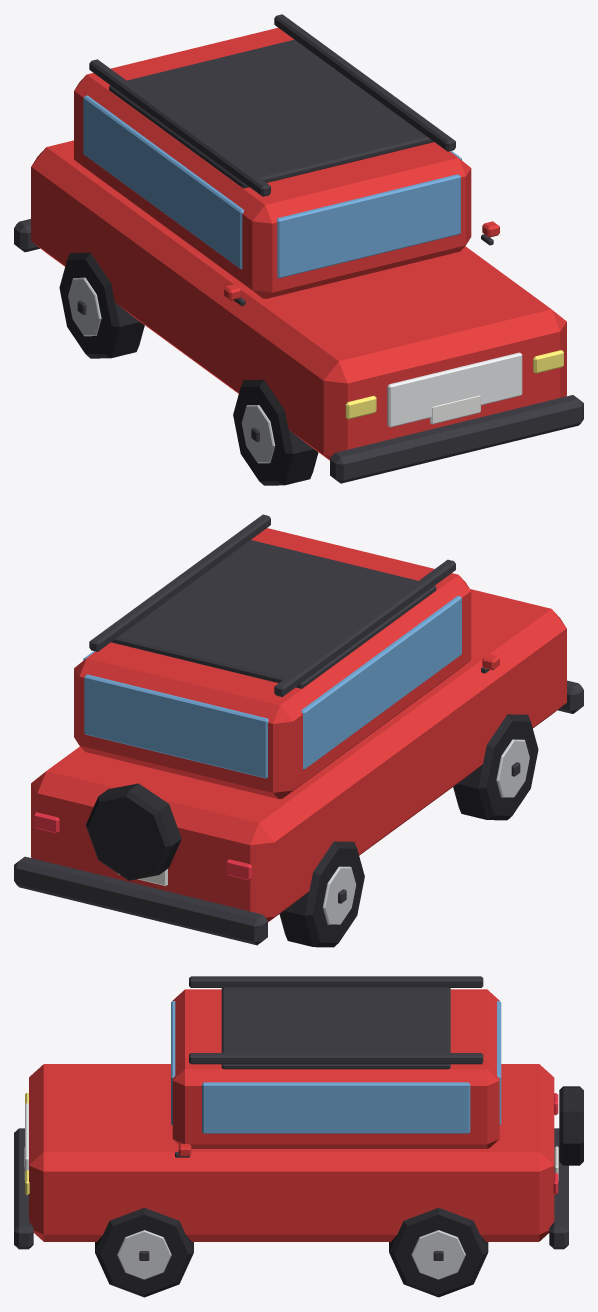
File: RedSUV.fbx
The picture shows the model from 3 angles, top to bottom: view 1: azimuth 30°, elevation 25°; view 2: azimuth 150°, elevation 25°; view 3: azimuth 270°, elevation 25°; orthographic projection. The views are drawn at different scales.
Parts seen in each view (by area): view 1: RedSUV, RedSUV_WheelBR, RedSUV_WheelFR; view 2: RedSUV, RedSUV_WheelBR, RedSUV_WheelFR; view 3: RedSUV, RedSUV_WheelBL, RedSUV_WheelFL.
Boxes of the visible parts, x1,y1,x2,y2 form: RedSUV: [14, 14, 583, 483]; RedSUV_WheelBR: [59, 252, 144, 358]; RedSUV_WheelFR: [233, 379, 318, 485]; RedSUV: [14, 514, 583, 945]; RedSUV_WheelBR: [279, 841, 364, 947]; RedSUV_WheelFR: [453, 714, 538, 820]; RedSUV: [14, 976, 583, 1249]; RedSUV_WheelBL: [389, 1207, 488, 1297]; RedSUV_WheelFL: [95, 1207, 193, 1297].
Bounding box in the file's own units: 5.35 × 5.15 × 11.5.
1 material, 1 textured.
